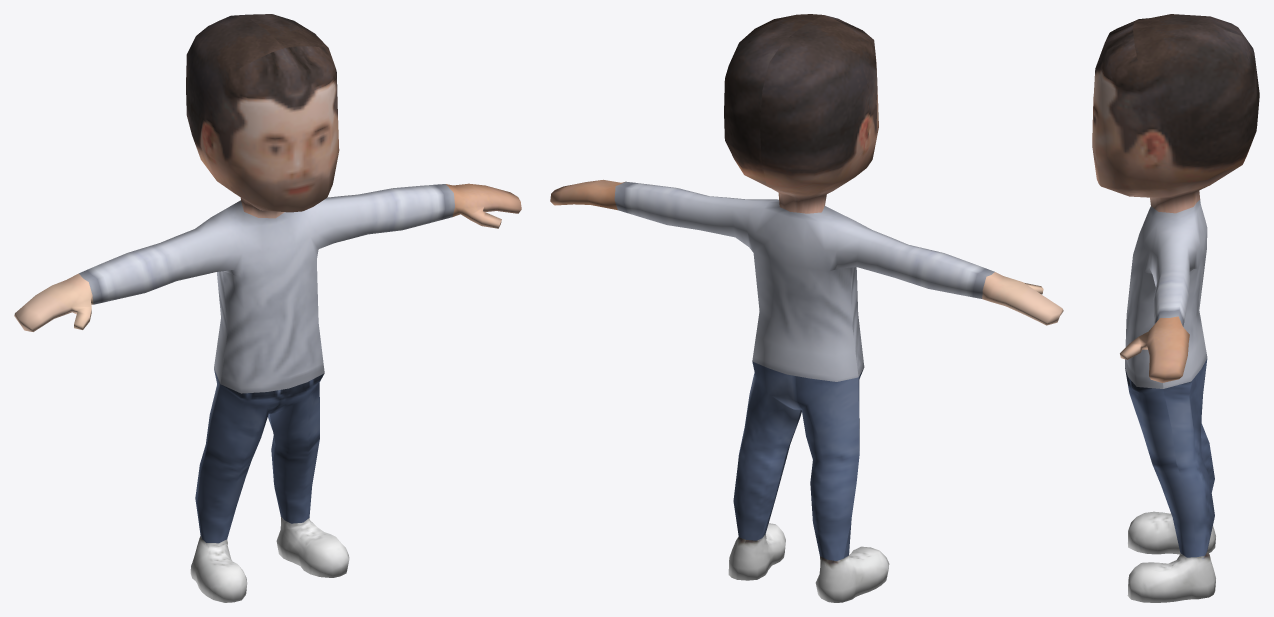
File: man.glb
The picture shows the model from 3 angles, left to right: view 1: azimuth 30°, elevation 25°; view 2: azimuth 150°, elevation 25°; view 3: azimuth 270°, elevation 25°; orthographic projection.
Parts seen in each view (by area): view 1: characterMedium; view 2: characterMedium; view 3: characterMedium.
Part boxes in pixels (x1,y1,x2,y2): characterMedium: (14,14,521,602); characterMedium: (550,14,1063,602); characterMedium: (1092,14,1259,602).
Bounding box in the file's own units: 3.62 × 3.76 × 1.05.
Materials: 1 (1 with a texture image).
